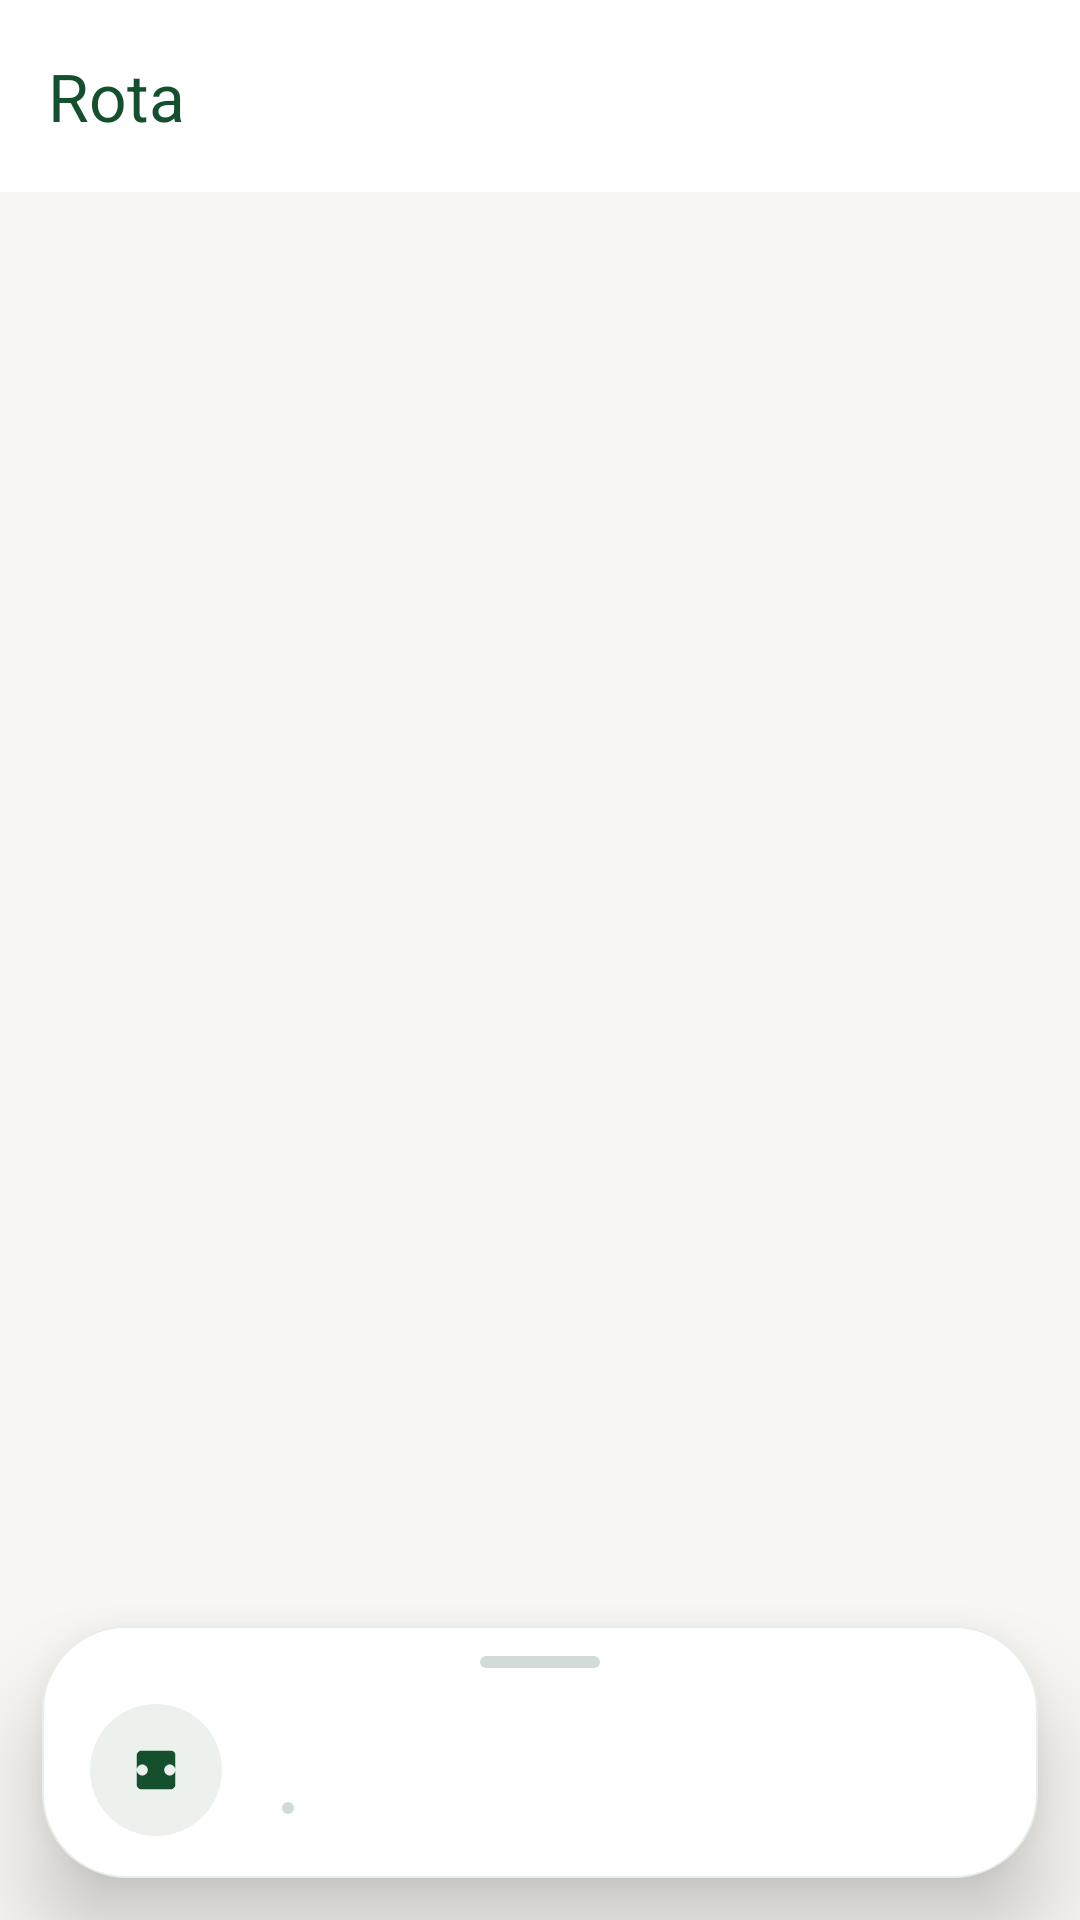

Point at icon controls on the screen. Image size 1080*1920, points as (x=x, y=y).
route transport: (x=156, y=1770)
